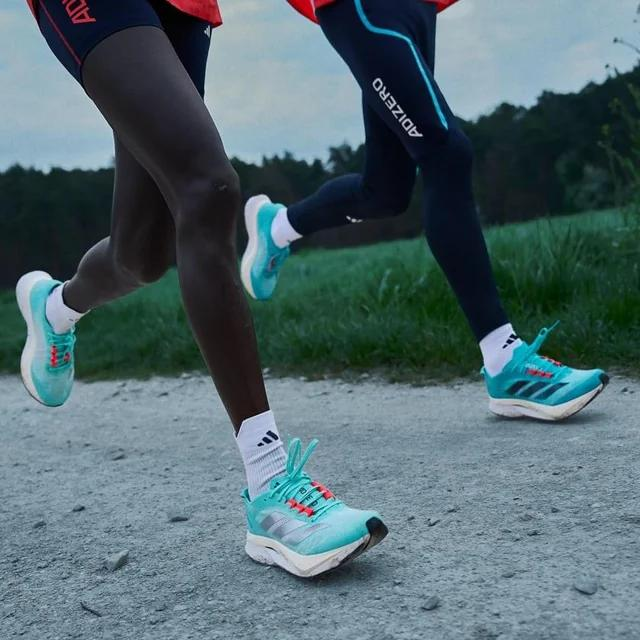adidas logo: (255, 508, 341, 554), (501, 374, 575, 404)
sock logo: (235, 425, 292, 489), (485, 325, 532, 355)
